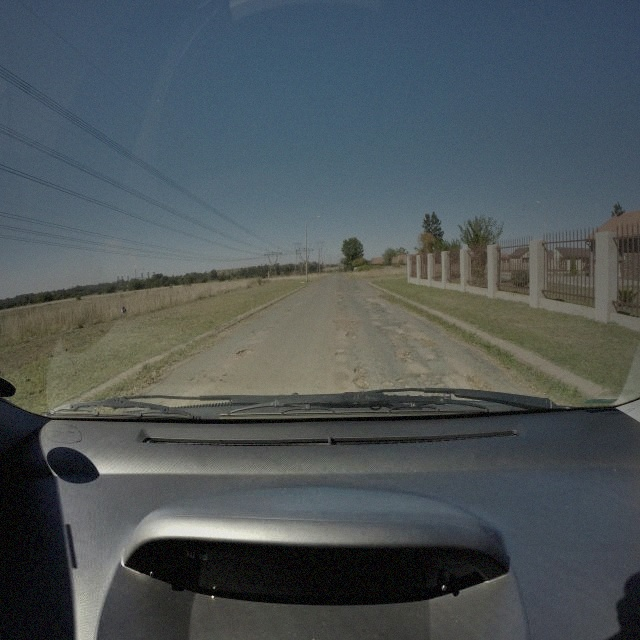pothole: (467, 374, 496, 394), (394, 349, 414, 364), (337, 317, 357, 329), (351, 379, 370, 390), (422, 338, 439, 348), (237, 347, 254, 356), (380, 379, 393, 389), (354, 367, 368, 374), (346, 332, 359, 339), (397, 335, 414, 339), (397, 377, 405, 384), (372, 301, 380, 308)
